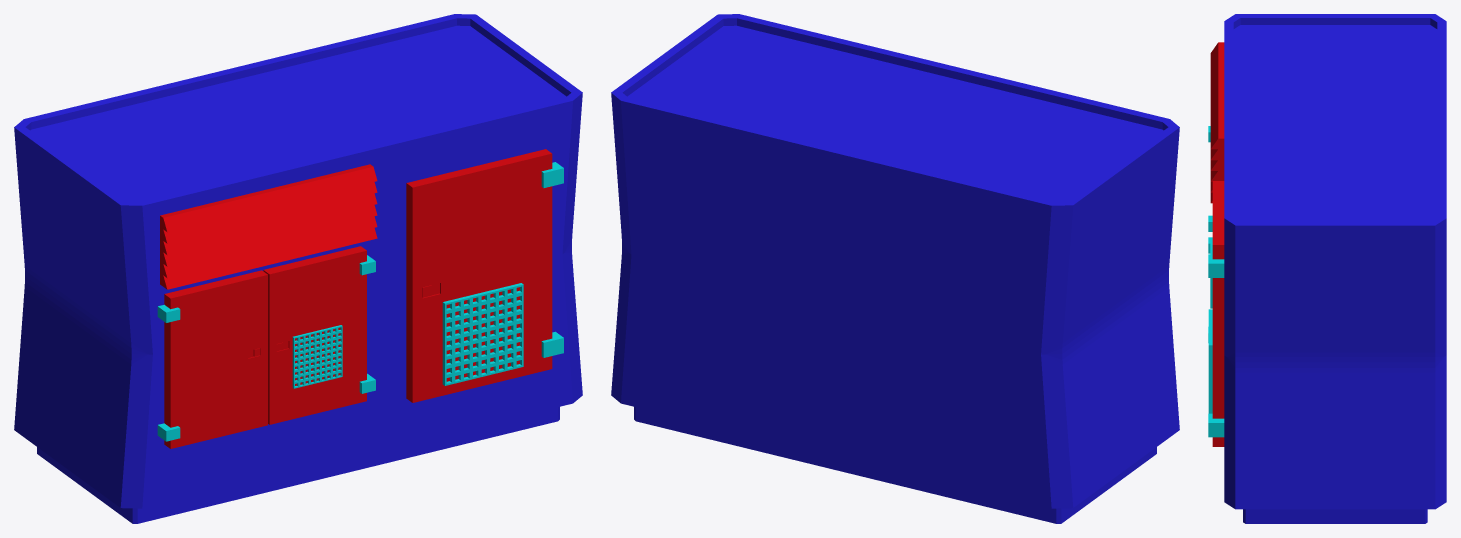
Rendered from Generator .fbx.
3 views of the same model, side by side, from view 1: azimuth 30°, elevation 25°; view 2: azimuth 150°, elevation 25°; view 3: azimuth 270°, elevation 25° (orthographic). The views are drawn at different scales.
Parts seen in each view (by area): view 1: Generator; view 2: Generator; view 3: Generator.
Part boxes in pixels (x1=…): Generator: x1=14, y1=14, x2=582, y2=523; Generator: x1=611, y1=14, x2=1179, y2=523; Generator: x1=1208, y1=14, x2=1446, y2=523.
Size of the model in its own units: 349 by 236 by 166.
